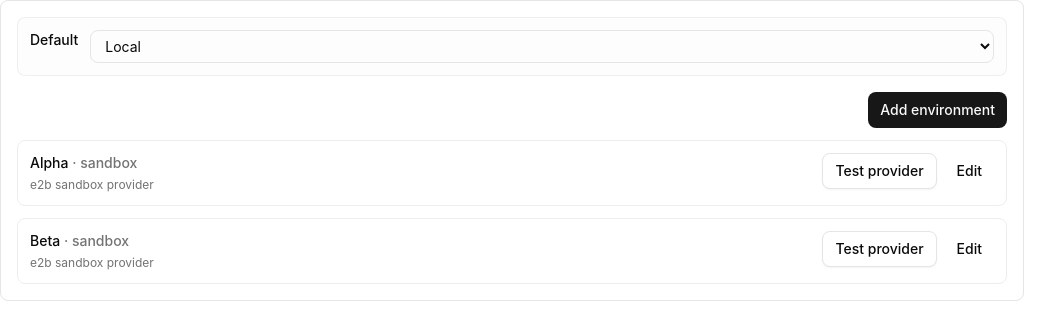
Test: CompanyEnvironments — test provider button › shows the testing state only on the clicked environment's button
This screenshot has width=1041, height=318.
What coordinates should you click on to do the following:
click the button "Test provider" in the row of "Alpha"
I would click on:
 (880, 171)
Its box is [822,153,937,189].
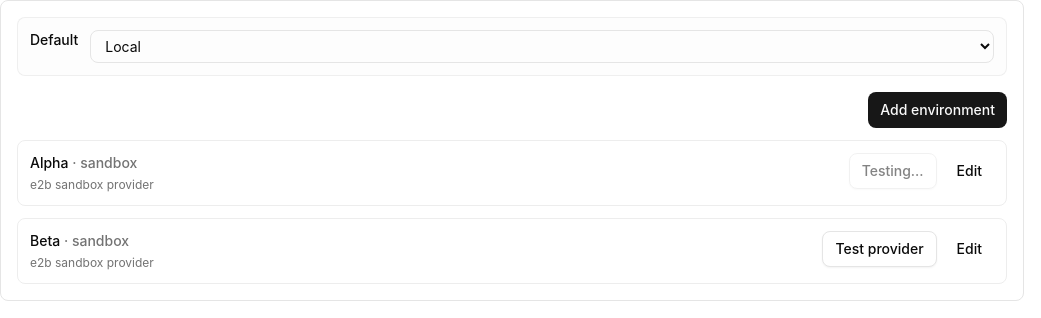
Expected: the button "Test provider" is shown, [822,231,937,267]
Expected: the button "Testing..." is shown, [849,153,937,189]
Expected: the button "Testing..." is disabled, [849,153,937,189]
